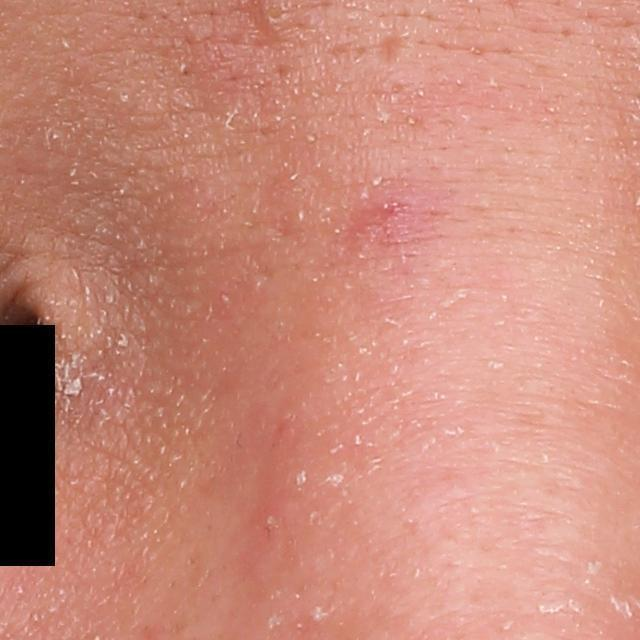atrophic_scar: (376, 29, 410, 63)
